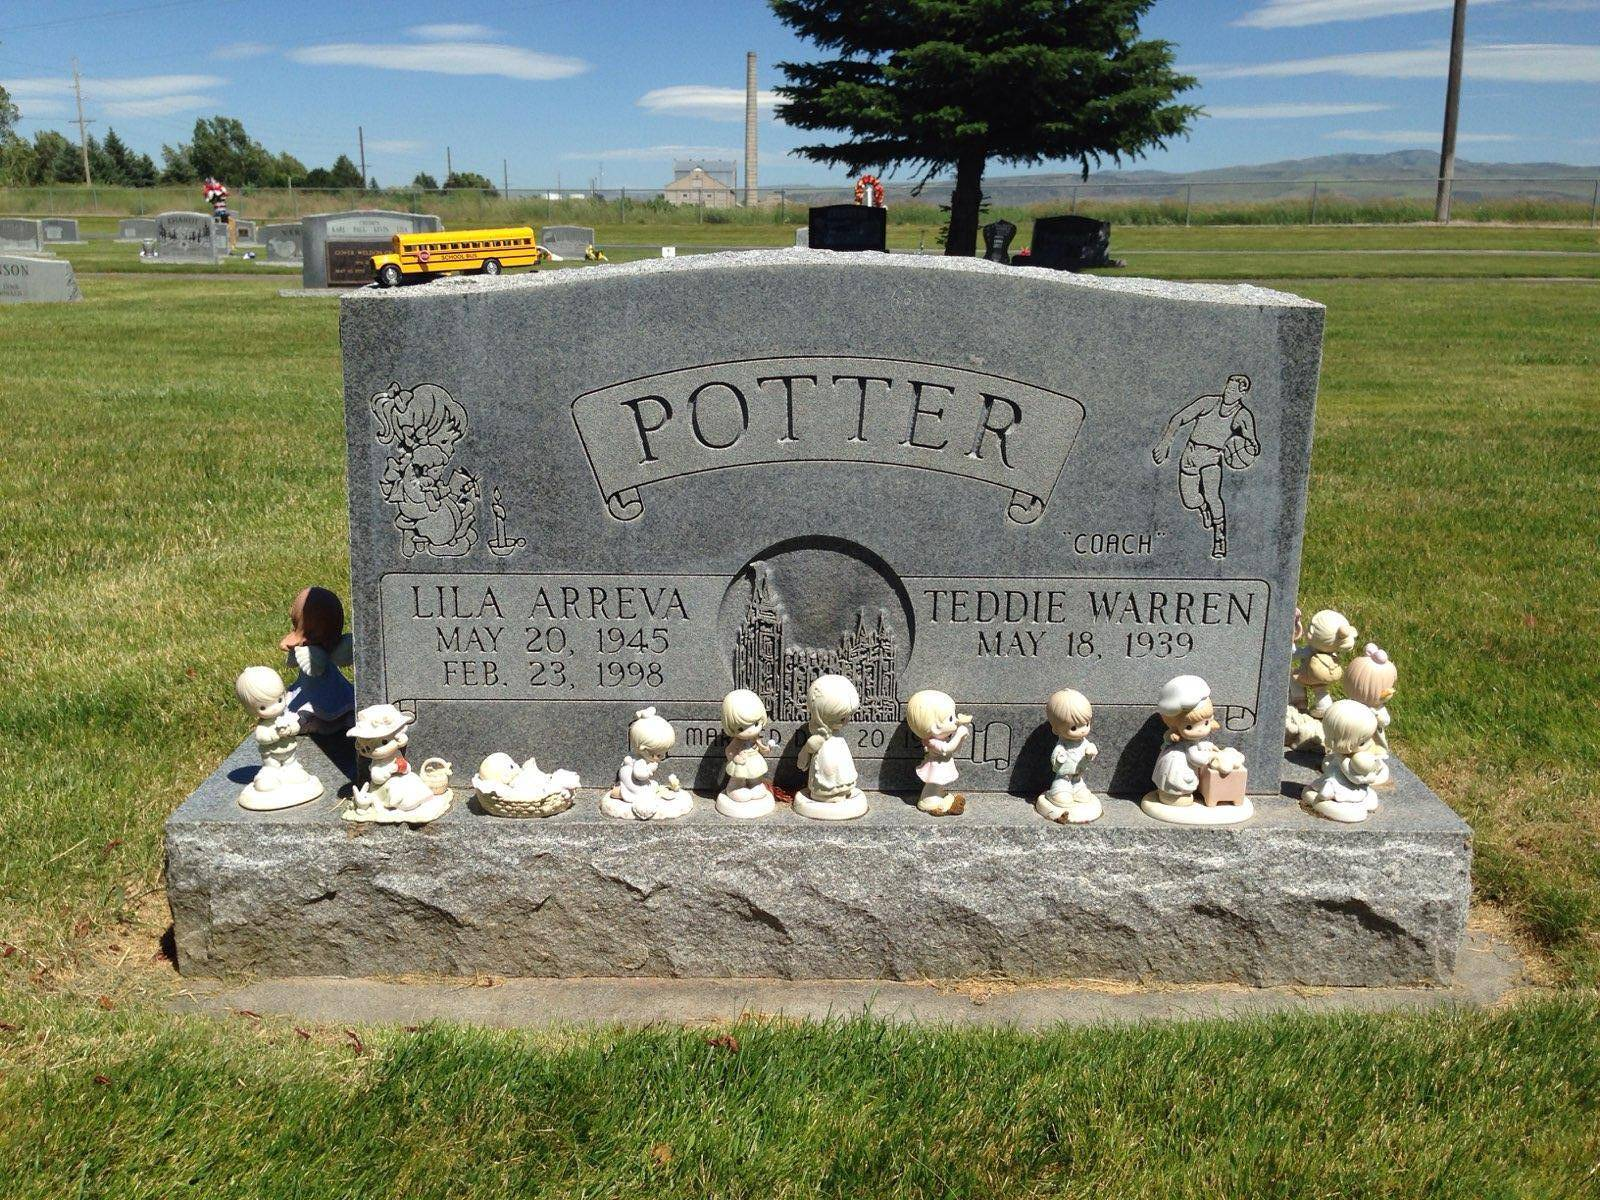upright: (166, 242, 1478, 1017)
